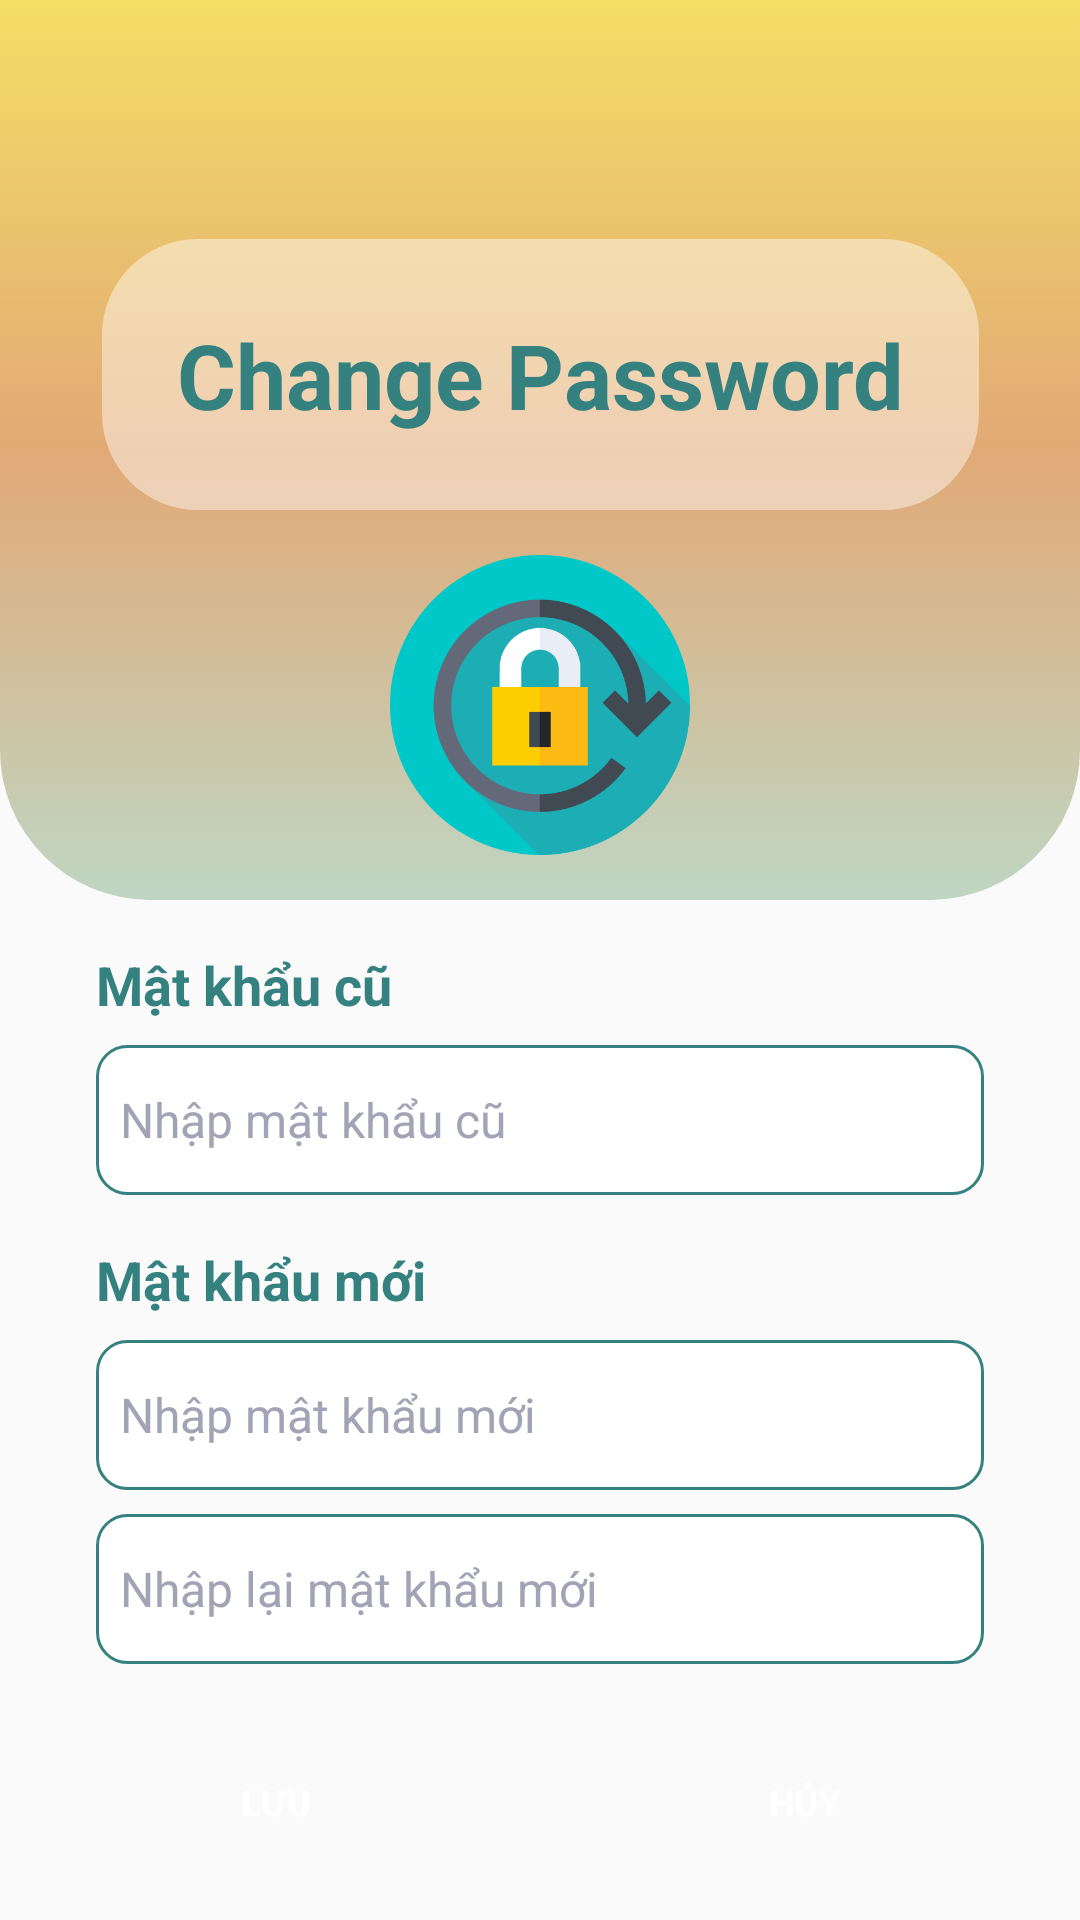

Where to tap for icons on this 1080x1920 app screen, as (x,y):
fragchangepass: (540,705)
